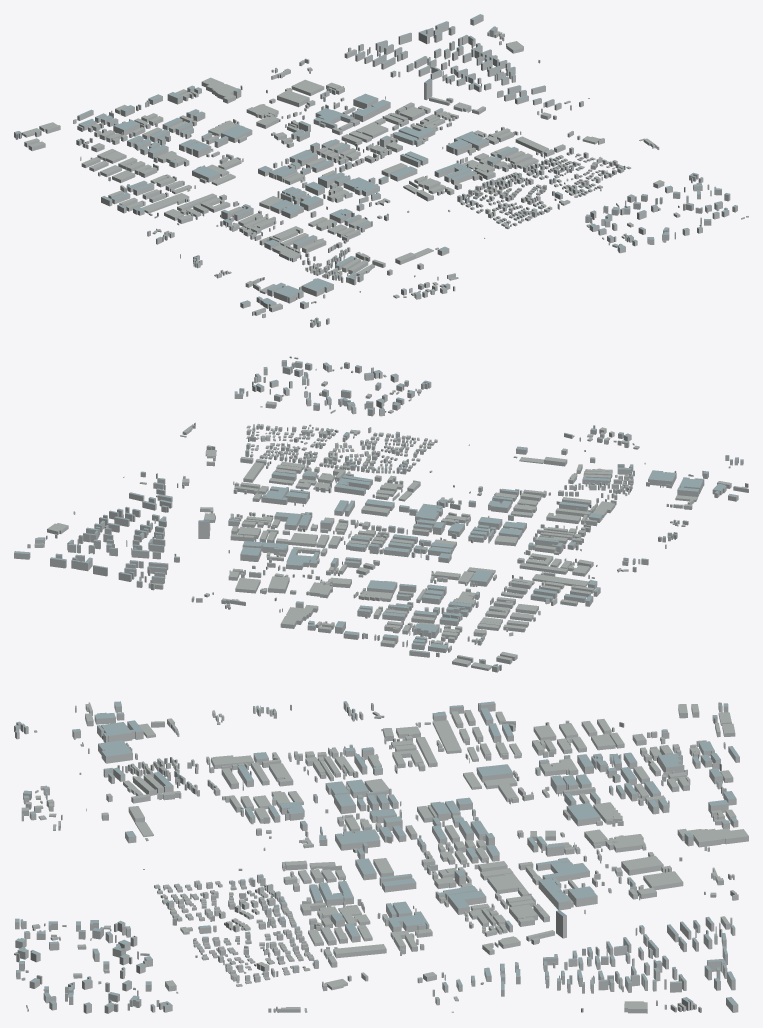
Rendered from far.glb.
3 views of the same model, one above another, from view 1: azimuth 30°, elevation 25°; view 2: azimuth 150°, elevation 25°; view 3: azimuth 270°, elevation 25° (orthographic). The views are drawn at different scales.
Size of the model in its own units: 2112 by 71.46 by 2138.
